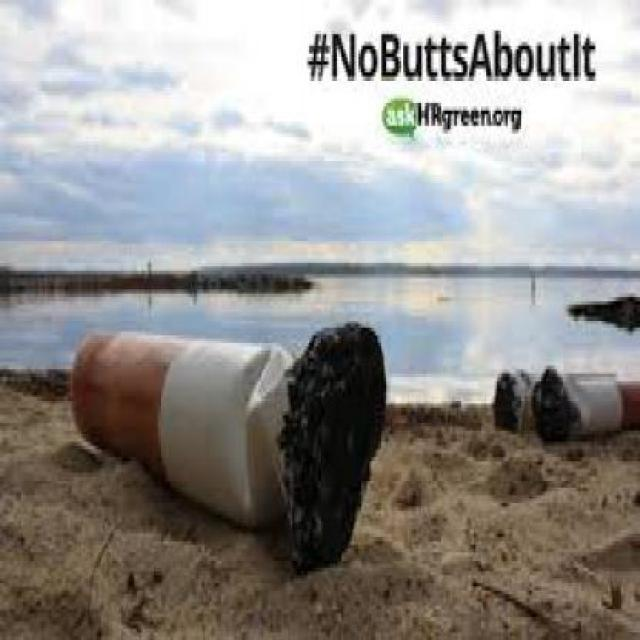cigarette: (71, 320, 397, 575), (536, 358, 638, 460), (502, 362, 526, 435)
